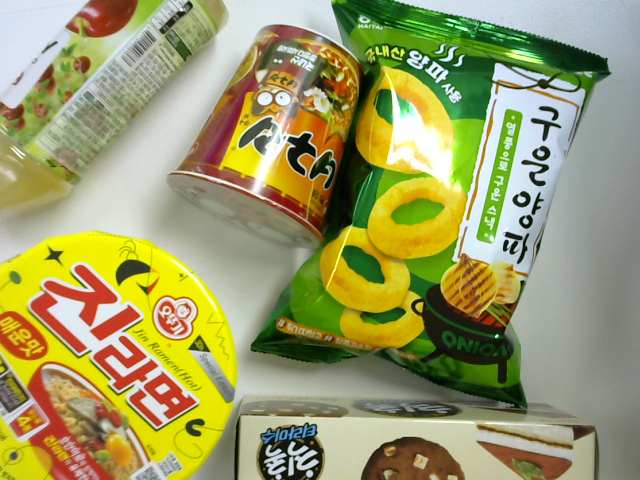Chicchok_Tiramisu: (209, 392, 593, 480)
Grilled_Onions: (248, 1, 618, 416)
Jinlamyeon_Hot_Taste_Large_Cup: (1, 227, 251, 474)
Morning_Apple_500ml: (2, 1, 240, 226)
Raccoon: (161, 32, 364, 254)
